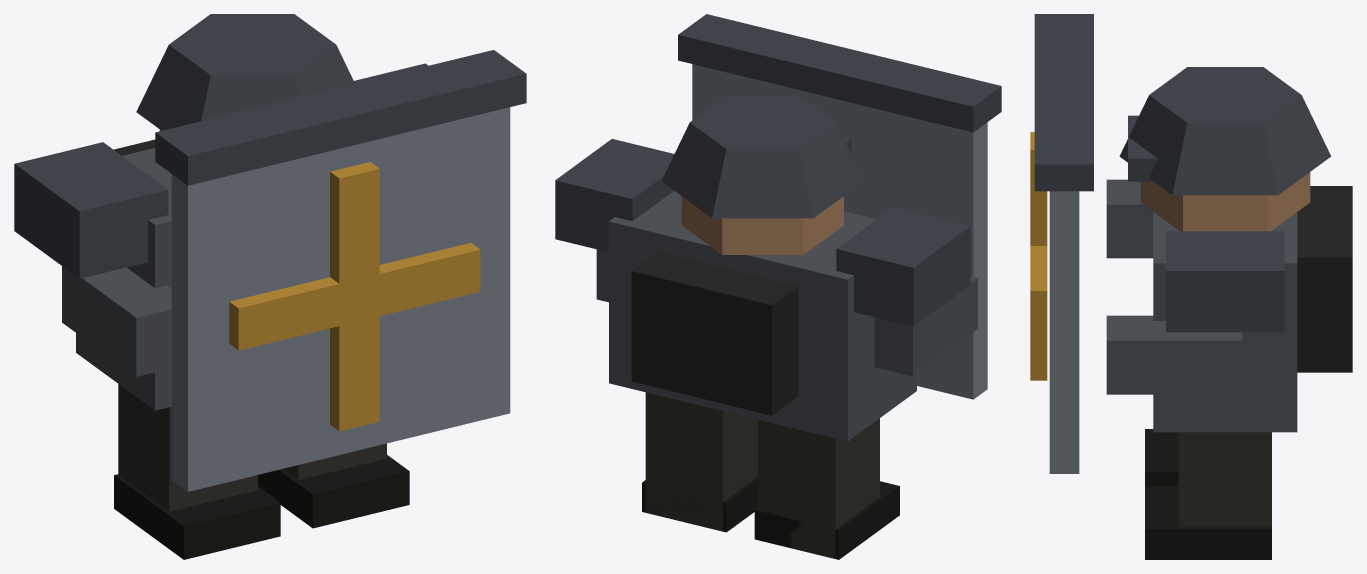
File: enemy_shield.glb
3 views of the same model, side by side, from view 1: azimuth 30°, elevation 25°; view 2: azimuth 150°, elevation 25°; view 3: azimuth 270°, elevation 25° (orthographic). The views are drawn at different scales.
Visible parts, largest first — view 1: body, legR, legL; view 2: body, legR, legL; view 3: body, legL, legR.
Boxes of the visible parts, x1,y1,x2,y2 form: body: (14, 14, 526, 491); legR: (114, 384, 280, 559); legL: (258, 443, 409, 528); body: (555, 14, 1001, 441); legR: (754, 418, 899, 559); legL: (642, 392, 757, 532); body: (1030, 14, 1352, 473); legL: (1145, 432, 1271, 559); legR: (1145, 429, 1178, 486).
Size of the model in its own units: 0.51 by 0.5475 by 0.38.
